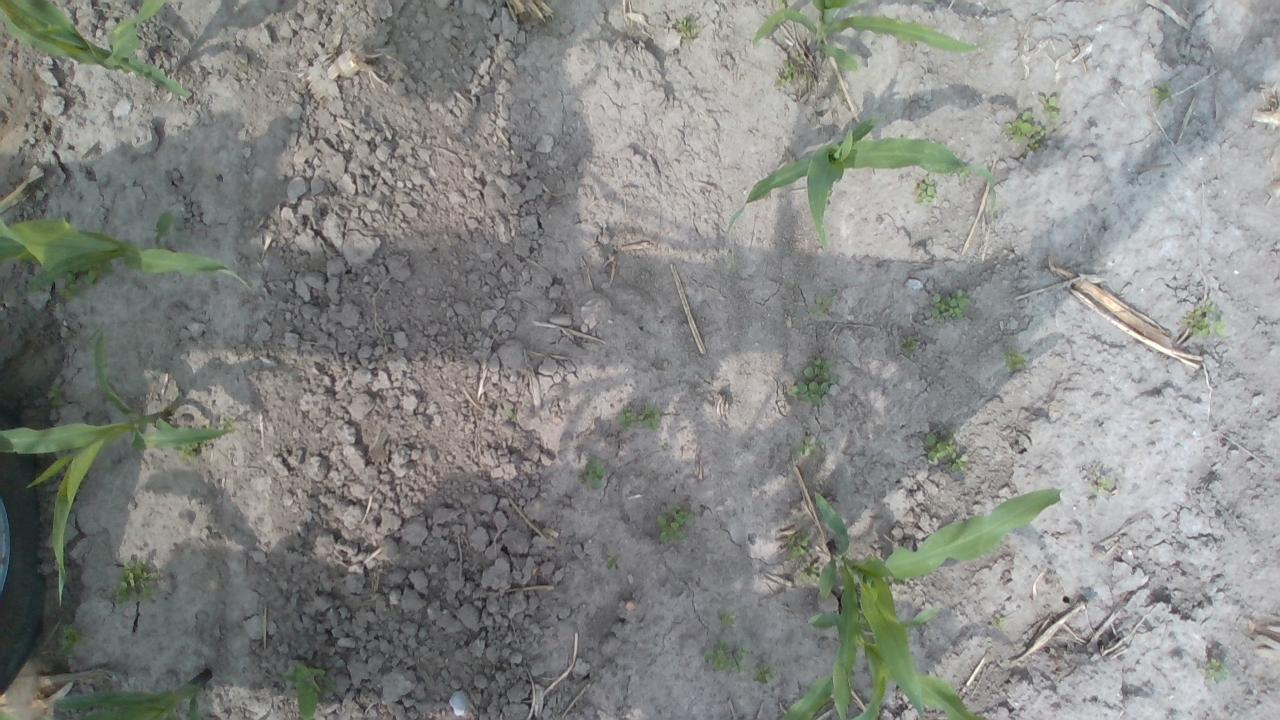Maize: (1, 328, 241, 612), (805, 488, 1065, 718), (744, 114, 1000, 260), (0, 210, 258, 308), (1, 1, 198, 105), (751, 1, 988, 78), (762, 654, 982, 718), (49, 666, 217, 718)
Weeds: (50, 258, 118, 304), (111, 560, 163, 609), (284, 658, 326, 718), (784, 528, 822, 587), (788, 358, 832, 402), (656, 507, 696, 552), (702, 640, 748, 676), (932, 285, 972, 326), (1185, 304, 1227, 342), (1004, 106, 1042, 146), (924, 431, 962, 471), (617, 403, 663, 435), (48, 623, 84, 656), (774, 53, 801, 90), (1038, 91, 1064, 119), (914, 178, 938, 204), (586, 459, 606, 490), (1092, 473, 1116, 495), (1206, 660, 1228, 682), (900, 338, 924, 358), (799, 431, 819, 455), (672, 13, 694, 33), (754, 660, 774, 682), (1002, 353, 1025, 372), (1152, 80, 1170, 100), (816, 293, 830, 307), (607, 554, 621, 568)
